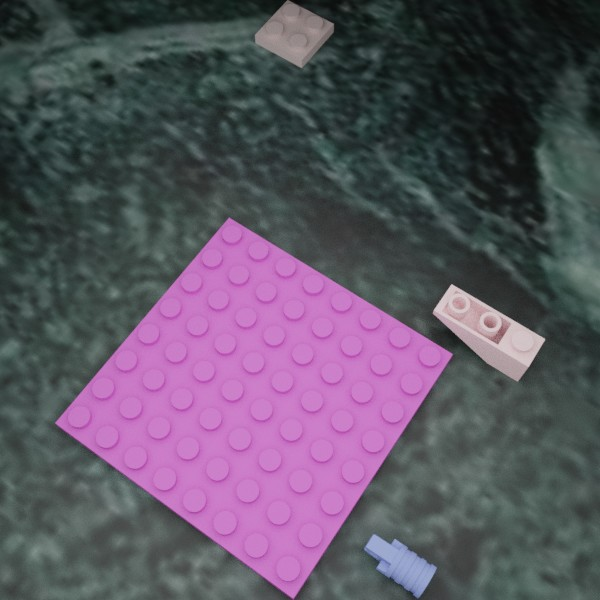lego: (55, 217, 452, 599), (432, 284, 545, 381), (254, 0, 334, 68), (364, 534, 436, 598)
